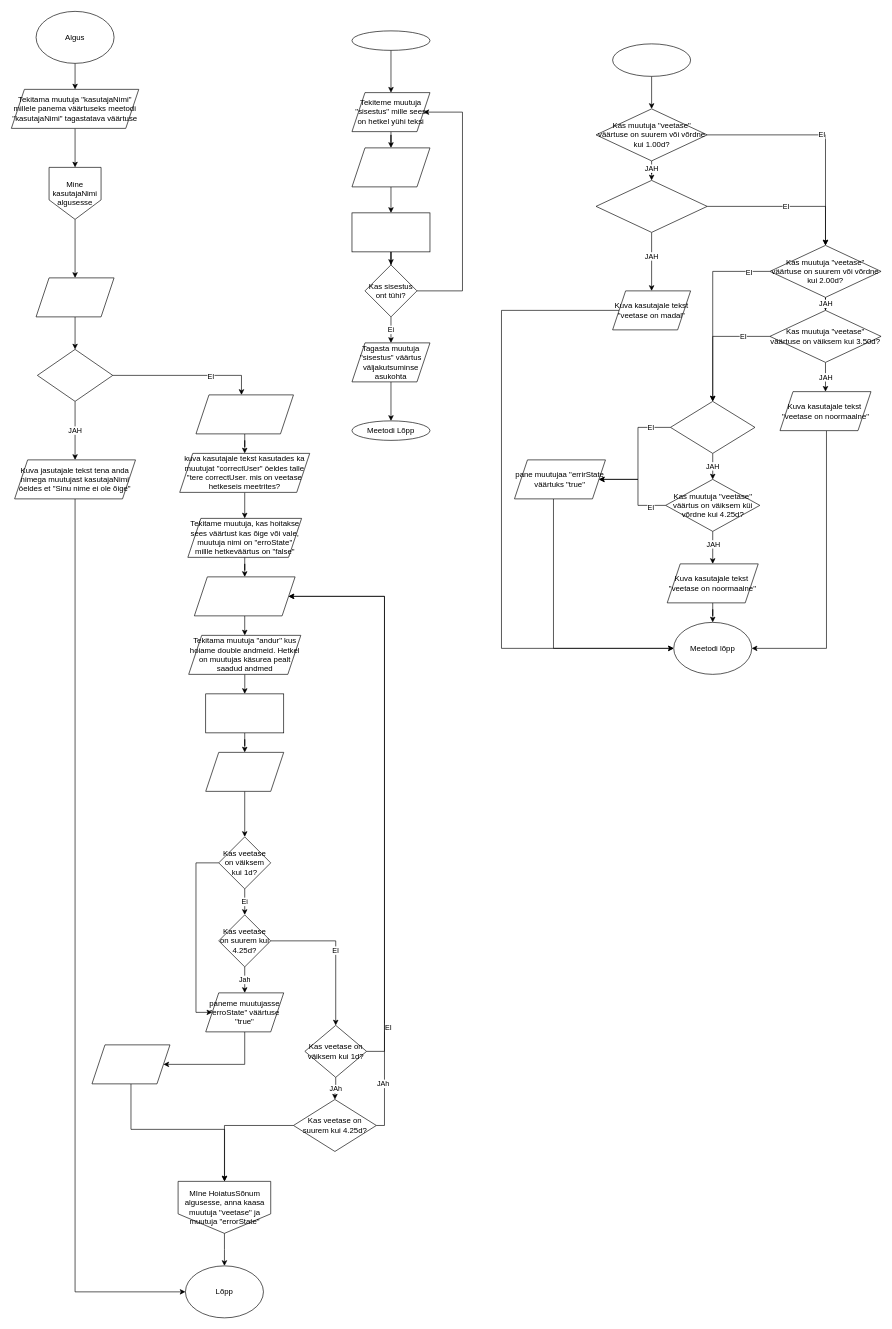
This 892x1329 diagram has some shape labels left out. Each missing label, with the centre of its shape:
HoiatuseSõnum algus: point 651,59
Kas muutuja "veetase" väärtus on suurem küi võrdne kui 3.50d?: point 712,427
Kas muutuja "veetase" väärtuse on väiksem kui 2.00d?: point 651,206
kasutajaNimi algus: point 390,40
katkestame tsükli tegevuse: point 130,1064
Kui correctUser ei ole sama nagu kasutajaNimi: point 75,375
kuva kasutajake tekst "palun sisesta oma kasutajanimi": point 390,167
Kuvs kasutajale tekst "mis on veetase anduril": point 244,596
Oota kuni kasutaja sisestab muutujasse "sisestus" sisestuse: point 390,232
Oota kuni kasutaja sisestav andmeid: point 244,713
Paneme muutujasse "veetase" muutuja "andur" väärtuse: point 244,771
tekita muutaja "veetase" mille väärtuseks on 0 double: point 244,414
Tekitame muutuja "correctUsser" mille väärtuseks on "siksseven": point 74,297
